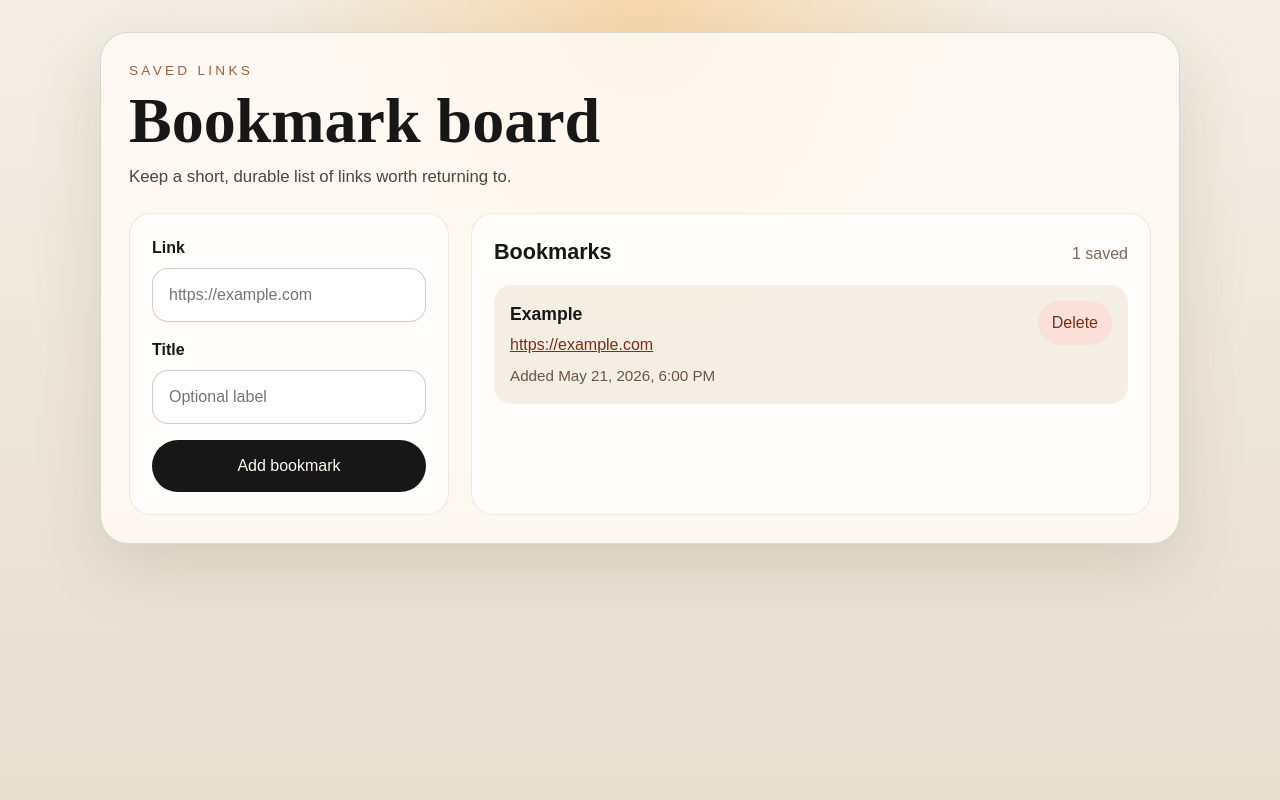
Test case: requires a link before bookmark creation
Check: the heading "Example" is shown, box [510, 304, 582, 324]
Click the button "Add bookmark".
click(289, 466)  # box [152, 440, 426, 492]
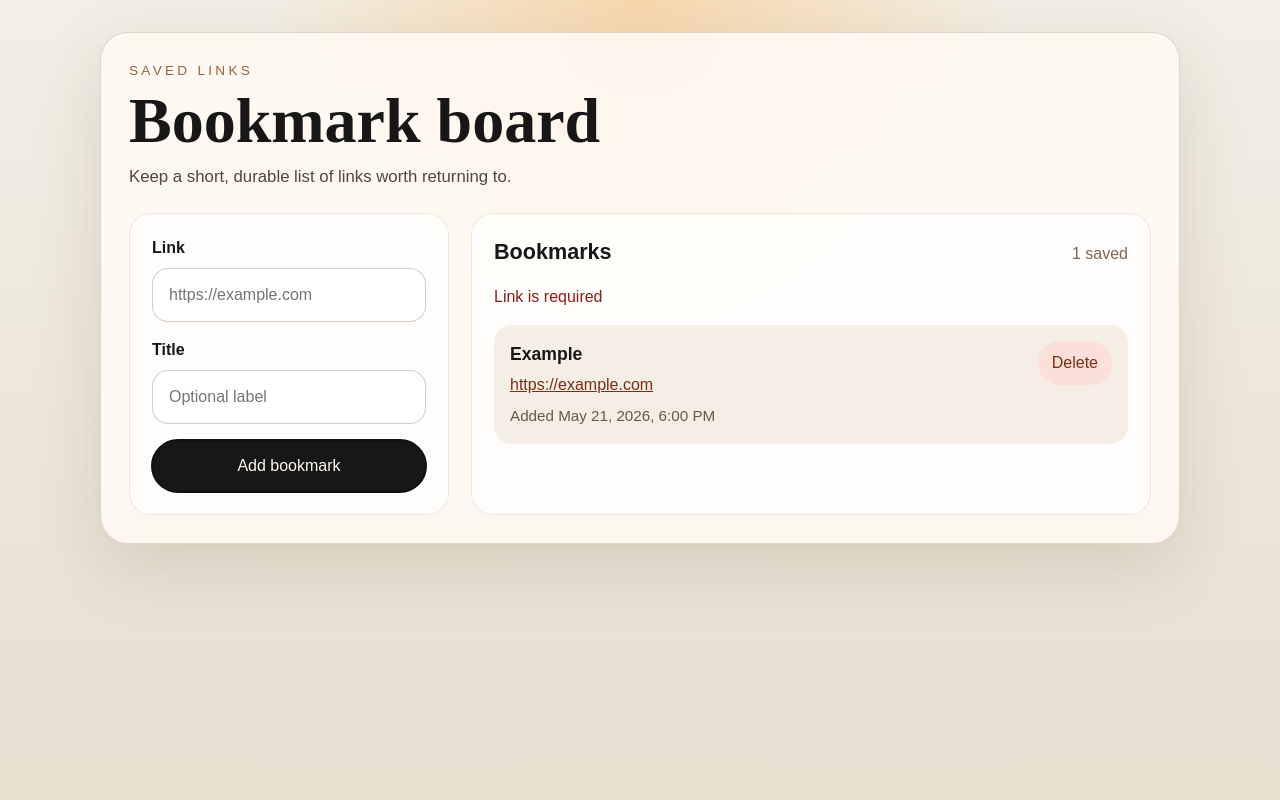
Check: the text "Link is required" is shown, box [494, 288, 602, 305]
